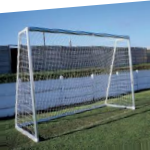goals: (13, 25, 139, 144)
